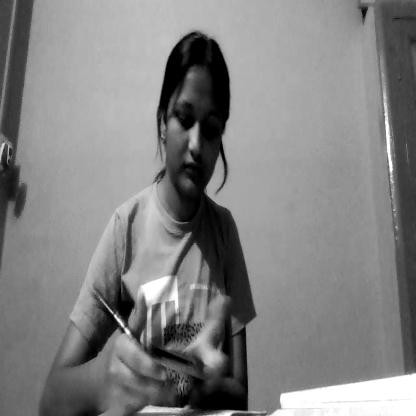Normal: (161, 39, 229, 204)
